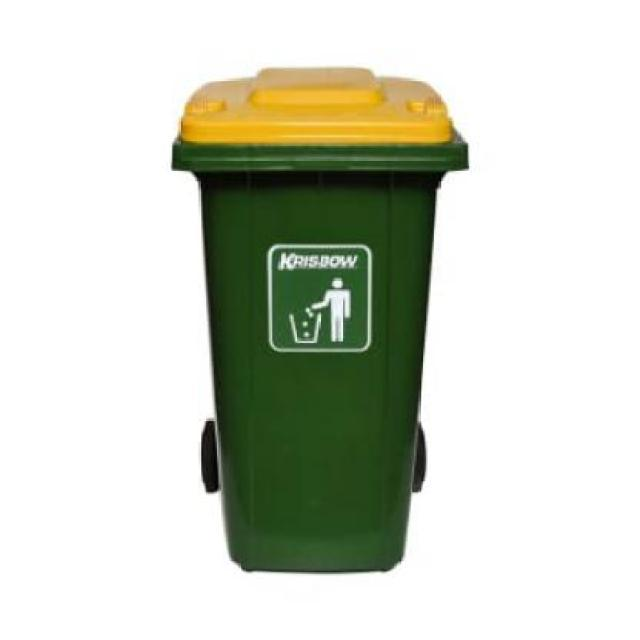garbage container: (153, 54, 487, 590)
